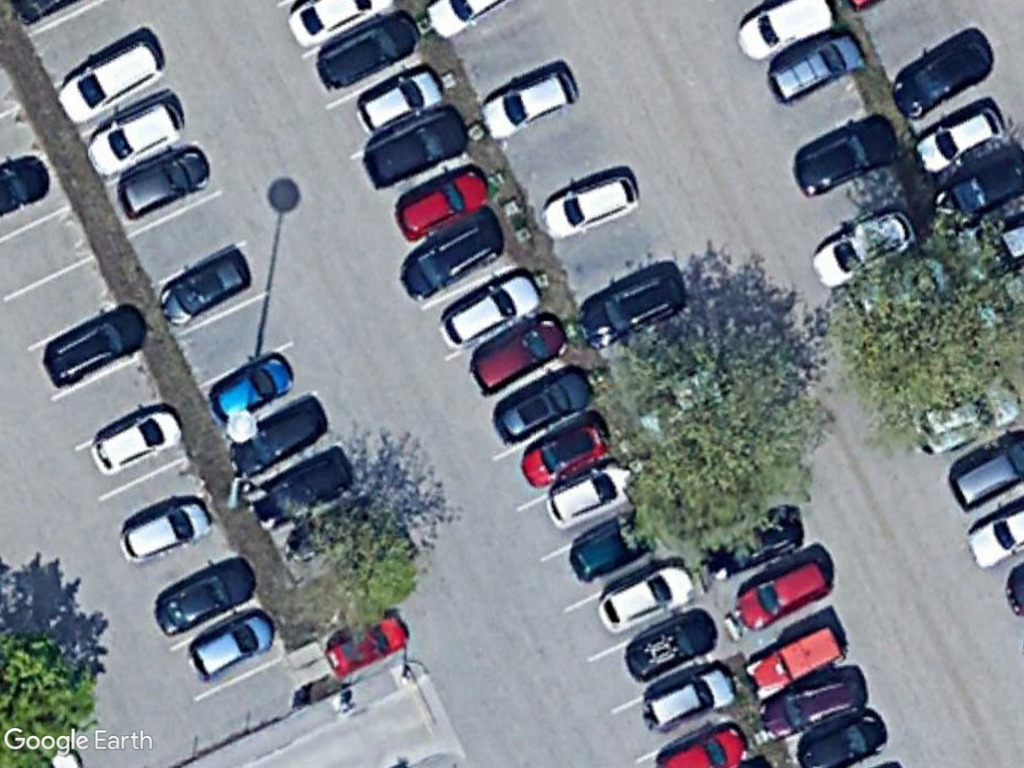car: (56, 31, 172, 125), (572, 264, 691, 351), (246, 441, 356, 532), (886, 34, 999, 120), (395, 216, 504, 305), (785, 114, 897, 200), (752, 665, 872, 744), (311, 10, 420, 96), (436, 266, 542, 354), (41, 301, 149, 387), (359, 108, 470, 191), (150, 552, 257, 638), (807, 209, 920, 290), (488, 363, 596, 447), (467, 312, 571, 398), (743, 619, 849, 702), (477, 62, 584, 142), (156, 245, 256, 328), (592, 559, 697, 638), (205, 345, 300, 431), (85, 95, 184, 177), (392, 160, 491, 242), (620, 605, 723, 683), (86, 400, 185, 479), (112, 144, 214, 220), (733, 556, 833, 633), (767, 32, 872, 105), (542, 456, 640, 530), (540, 169, 641, 240), (636, 661, 736, 732), (516, 417, 611, 491), (912, 102, 1008, 175), (116, 496, 213, 565), (184, 608, 274, 682), (352, 64, 443, 136)
van: (733, 0, 835, 64)
